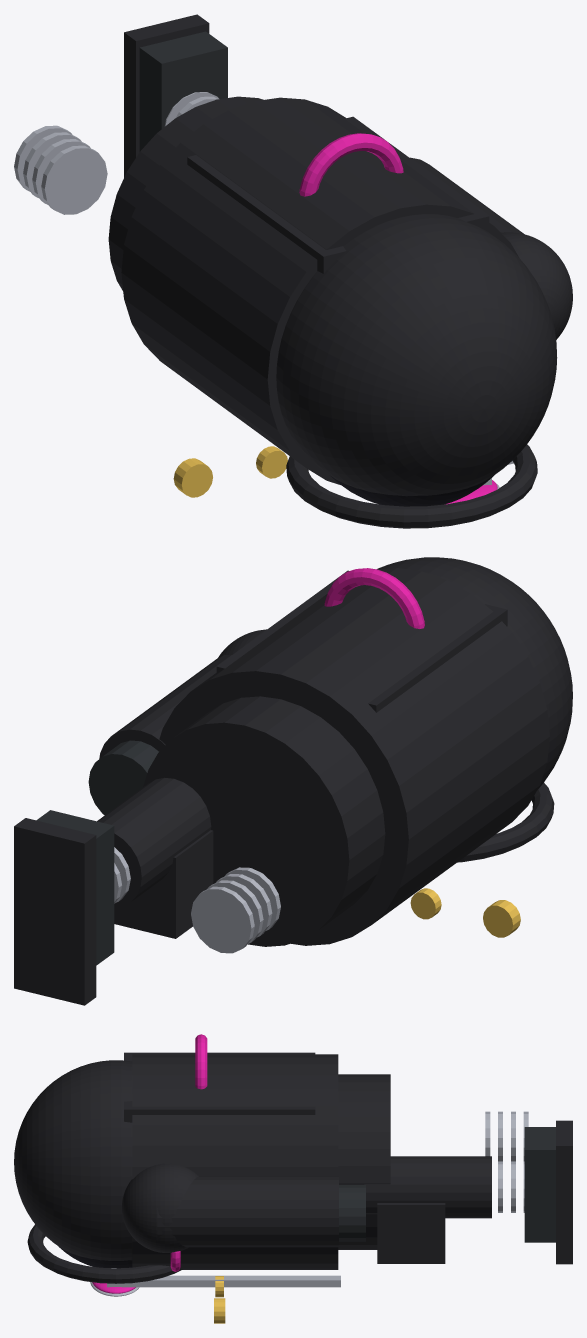
Rendered from LIL_SYNN_3D_Model-4.glb.
3 views of the same model, one above another, from view 1: azimuth 30°, elevation 25°; view 2: azimuth 150°, elevation 25°; view 3: azimuth 270°, elevation 25° (orthographic). The views are drawn at different scales.
Parts seen in each view (by area): view 1: hood_outer, jacket_torso, hood_rim, boot, hips, backpack, cyl_-0.42_0.0_0.56, boot_sole, shoulder, back_symbol, covered_head, cyl_-0.83_-0.77_2.45 (+5 smaller); view 2: jacket_torso, hips, boot_sole, hood_outer, pant_leg, cargo_pocket, boot, backpack, cyl_-0.42_0.0_0.29, glove, sleeve, back_symbol (+6 smaller); view 3: jacket_torso, hood_outer, sleeve, hips, pant_leg, shoulder, cargo_pocket, boot, hood_rim, shoulder_strap, boot_sole, backpack (+3 smaller).
Part boxes in pixels (left/top/right/bottom): hood_outer: left=276, top=214, right=557, bottom=496; jacket_torso: left=121, top=97, right=519, bottom=484; hood_rim: left=286, top=444, right=537, bottom=528; boot: left=139, top=31, right=227, bottom=151; hips: left=108, top=96, right=263, bottom=291; backpack: left=187, top=116, right=489, bottom=273; cyl_-0.42_0.0_0.56: left=41, top=145, right=107, bottom=214; boot_sole: left=124, top=14, right=209, bottom=177; shoulder: left=501, top=232, right=572, bottom=339; back_symbol: left=299, top=133, right=403, bottom=196; covered_head: left=330, top=475, right=493, bottom=506; cyl_-0.83_-0.77_2.45: left=173, top=458, right=212, bottom=497; jacket_torso: left=159, top=568, right=549, bottom=945; hips: left=143, top=696, right=385, bottom=946; boot_sole: left=14, top=818, right=96, bottom=1005; hood_outer: left=377, top=557, right=572, bottom=788; pant_leg: left=97, top=777, right=211, bottom=907; cargo_pocket: left=114, top=830, right=213, bottom=938; boot: left=36, top=810, right=114, bottom=965; backpack: left=216, top=570, right=507, bottom=712; cyl_-0.42_0.0_0.29: left=191, top=886, right=254, bottom=953; glove: left=88, top=740, right=158, bottom=815; sleeve: left=99, top=654, right=231, bottom=758; back_symbol: left=324, top=568, right=424, bottom=628; jacket_torso: left=132, top=1054, right=338, bottom=1269; hood_outer: left=14, top=1060, right=132, bottom=1260; sleeve: left=157, top=1176, right=338, bottom=1247; hips: left=338, top=1074, right=390, bottom=1249; pant_leg: left=364, top=1156, right=491, bottom=1218; shoulder: left=122, top=1163, right=198, bottom=1252; cargo_pocket: left=377, top=1203, right=445, bottom=1263; boot: left=524, top=1127, right=555, bottom=1242; hood_rim: left=27, top=1224, right=183, bottom=1283; shoulder_strap: left=107, top=1275, right=340, bottom=1287; boot_sole: left=556, top=1120, right=572, bottom=1264; backpack: left=124, top=1052, right=315, bottom=1122.
Size of the model in its own units: 2 by 1.83 by 3.94.
